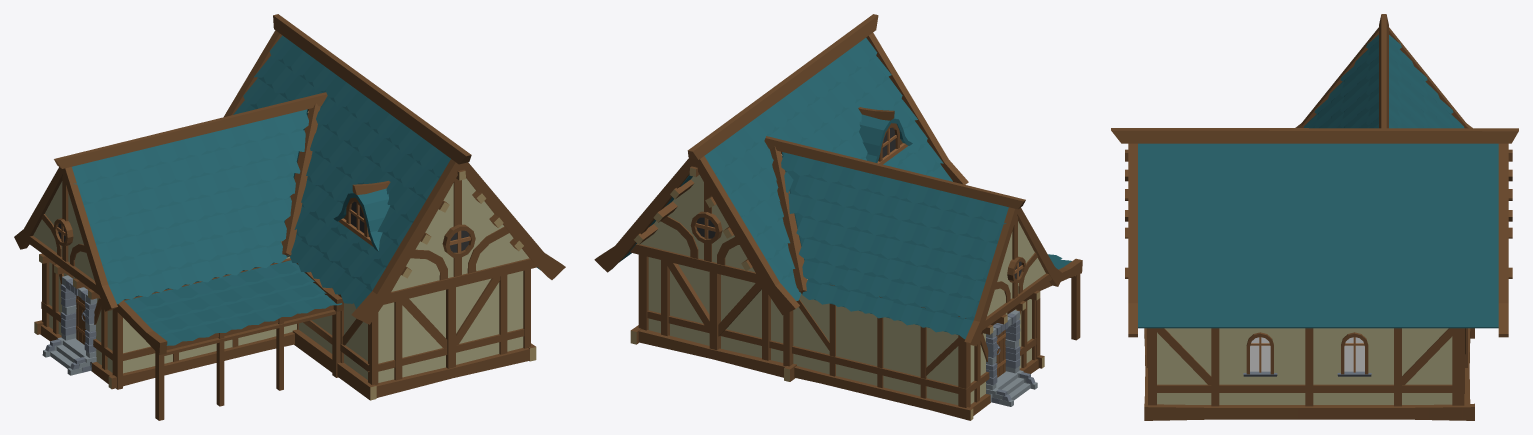
File: wizard_cottage.fbx
3 views of the same model, side by side, from view 1: azimuth 30°, elevation 25°; view 2: azimuth 150°, elevation 25°; view 3: azimuth 270°, elevation 25° (orthographic). The views are drawn at different scales.
Parts seen in each view (by area): view 1: back_roof, roof_front, stable, frame_bottom, walls_bottom, top_wall, entrance; view 2: roof_front, back_roof, frame_bottom, walls_bottom, entrance, top_wall, stable; view 3: back_roof, walls_bottom, frame_bottom, roof_front, windows.
Part boxes in pixels (bbox=[...]): back_roof: bbox=[224, 14, 565, 324]; roof_front: bbox=[14, 92, 327, 311]; stable: bbox=[113, 258, 343, 420]; frame_bottom: bbox=[34, 262, 536, 400]; walls_bottom: bbox=[49, 271, 523, 382]; top_wall: bbox=[39, 241, 367, 361]; entrance: bbox=[42, 275, 96, 375]; roof_front: bbox=[764, 136, 1064, 346]; back_roof: bbox=[594, 14, 968, 315]; frame_bottom: bbox=[630, 254, 1044, 420]; walls_bottom: bbox=[648, 257, 1031, 404]; entrance: bbox=[986, 310, 1037, 406]; top_wall: bbox=[970, 290, 1040, 382]; stable: bbox=[1036, 254, 1082, 359]; back_roof: bbox=[1111, 128, 1518, 337]; walls_bottom: bbox=[1157, 328, 1452, 404]; frame_bottom: bbox=[1144, 328, 1474, 420]; roof_front: bbox=[1295, 14, 1472, 128]; windows: bbox=[1243, 332, 1371, 376].
Bounding box in the file's own units: 2825 × 1652 × 2429.
